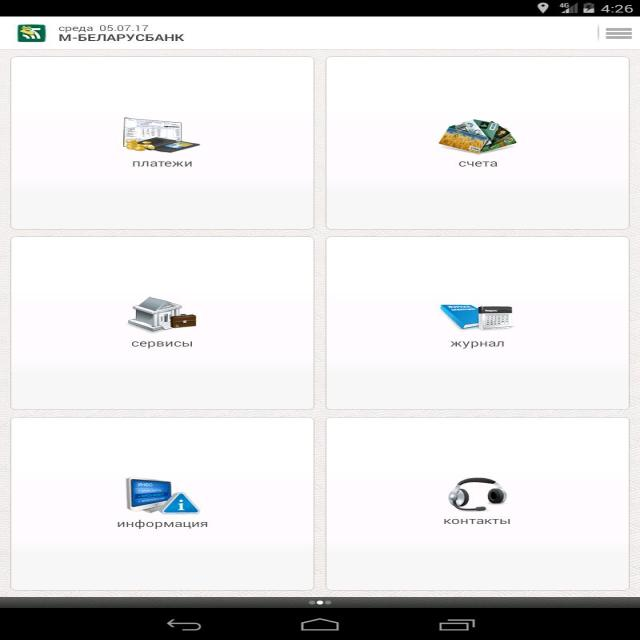button: (13, 418, 314, 591), (329, 418, 628, 590), (329, 238, 626, 410), (11, 58, 311, 228), (14, 238, 312, 408), (327, 59, 626, 228), (601, 22, 640, 45)
heading: (54, 22, 188, 45)
image: (116, 113, 200, 154), (121, 474, 202, 516), (121, 293, 202, 333), (432, 118, 520, 154), (433, 298, 520, 334), (444, 472, 512, 513), (19, 24, 46, 43)
text: (115, 517, 211, 532), (128, 156, 198, 172), (128, 336, 198, 352), (443, 516, 514, 528), (454, 156, 504, 171), (447, 338, 509, 350)
